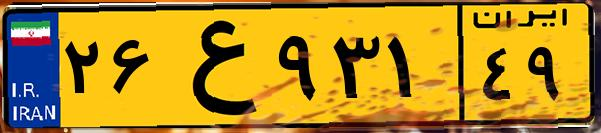1: (385, 28, 445, 110)
2: (57, 26, 110, 100)
3: (330, 28, 385, 110)
4: (475, 38, 525, 113)
6: (110, 28, 158, 98)
9: (270, 28, 330, 110), (525, 38, 570, 115)
ع: (158, 12, 270, 120)
